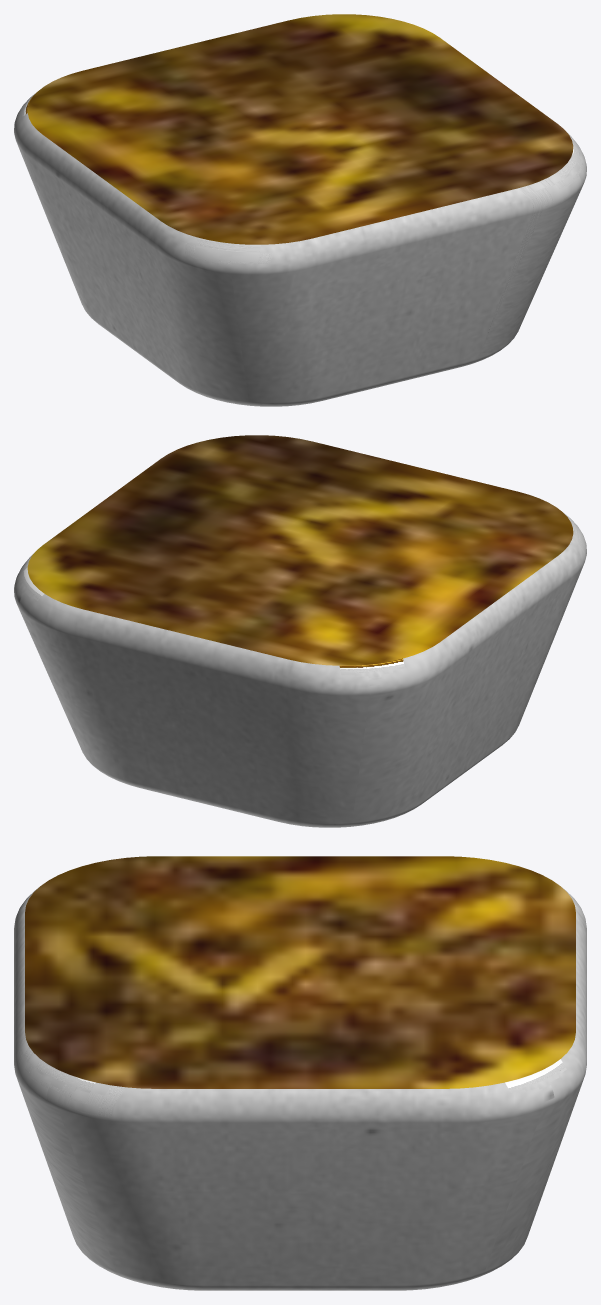
Rendered from SchoolFood.glb.
3 renders of one model, top to bottom at view 1: azimuth 30°, elevation 25°; view 2: azimuth 150°, elevation 25°; view 3: azimuth 270°, elevation 25°, orthographic. The views are drawn at different scales.
Parts seen in each view (by area): view 1: Cube.001; view 2: Cube.001; view 3: Cube.001.
Part boxes in pixels (bbox=[...]): Cube.001: bbox=[14, 14, 586, 406]; Cube.001: bbox=[14, 435, 586, 827]; Cube.001: bbox=[14, 856, 586, 1290].
Bounding box in the file's own units: 0.0684 × 0.0306 × 0.0684.
Materials: 1 (1 with a texture image).
